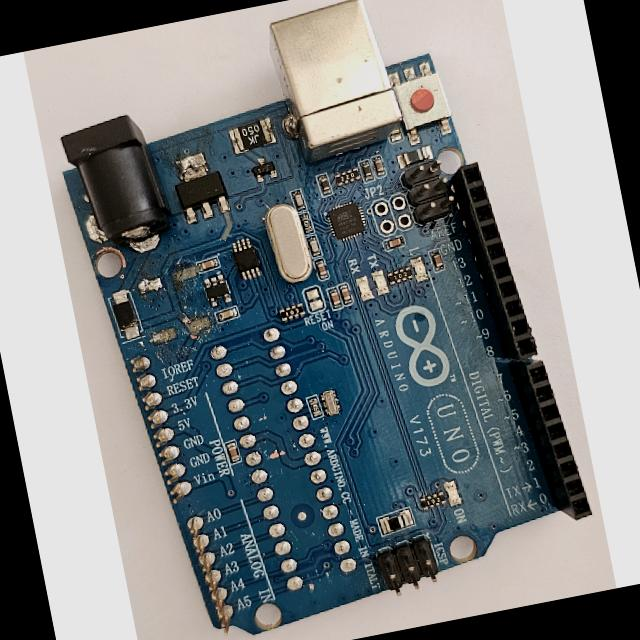missing_analog_pins: (129, 351, 245, 639)
missing_atmega: (199, 313, 370, 606)
missing_capacitors: (126, 255, 218, 351)
